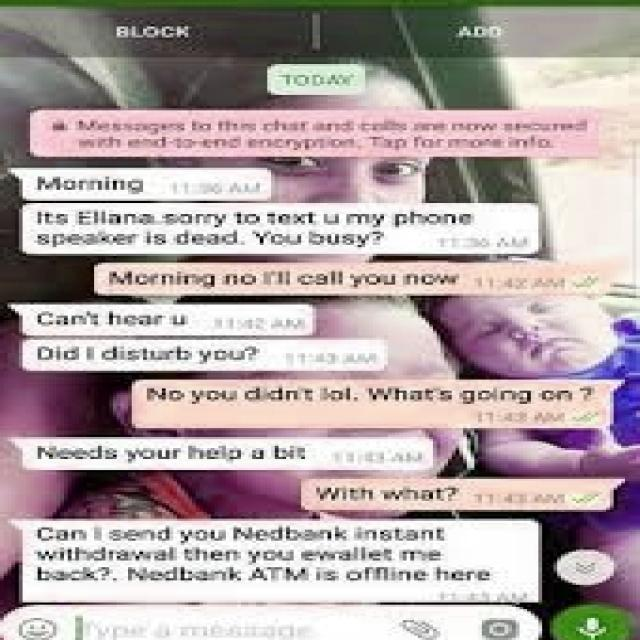scam: (27, 516, 526, 604), (20, 206, 526, 246), (17, 428, 346, 469), (32, 336, 296, 369), (24, 170, 267, 204), (32, 305, 223, 333)
